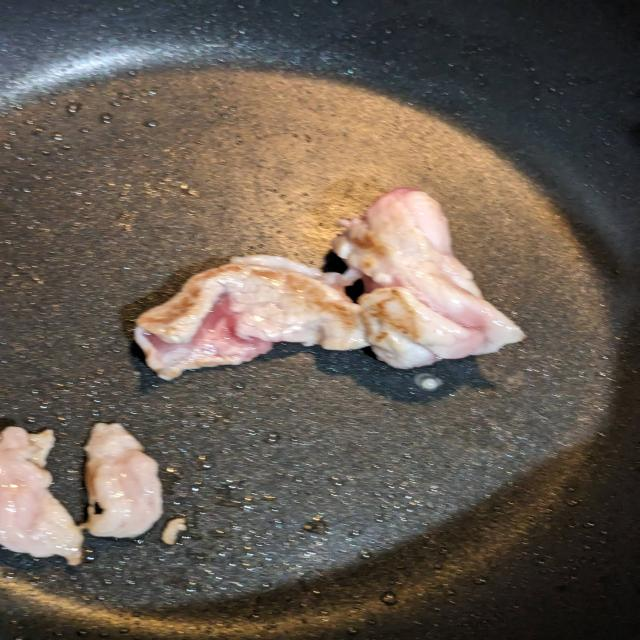NG undercooked pork,: (125, 176, 548, 390), (0, 414, 174, 572)
